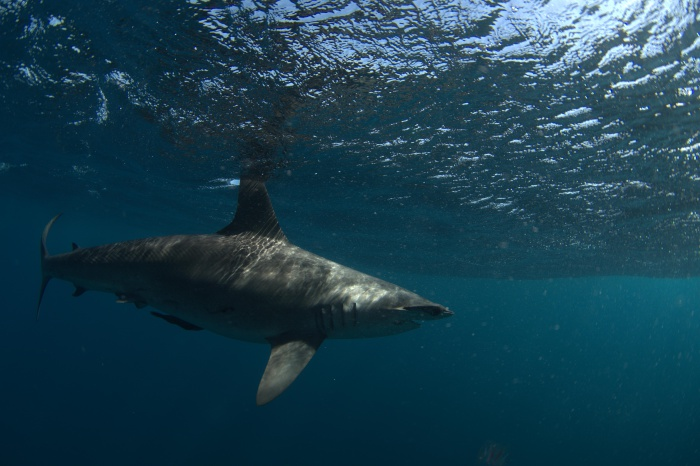Hammer: (23, 169, 481, 397)
